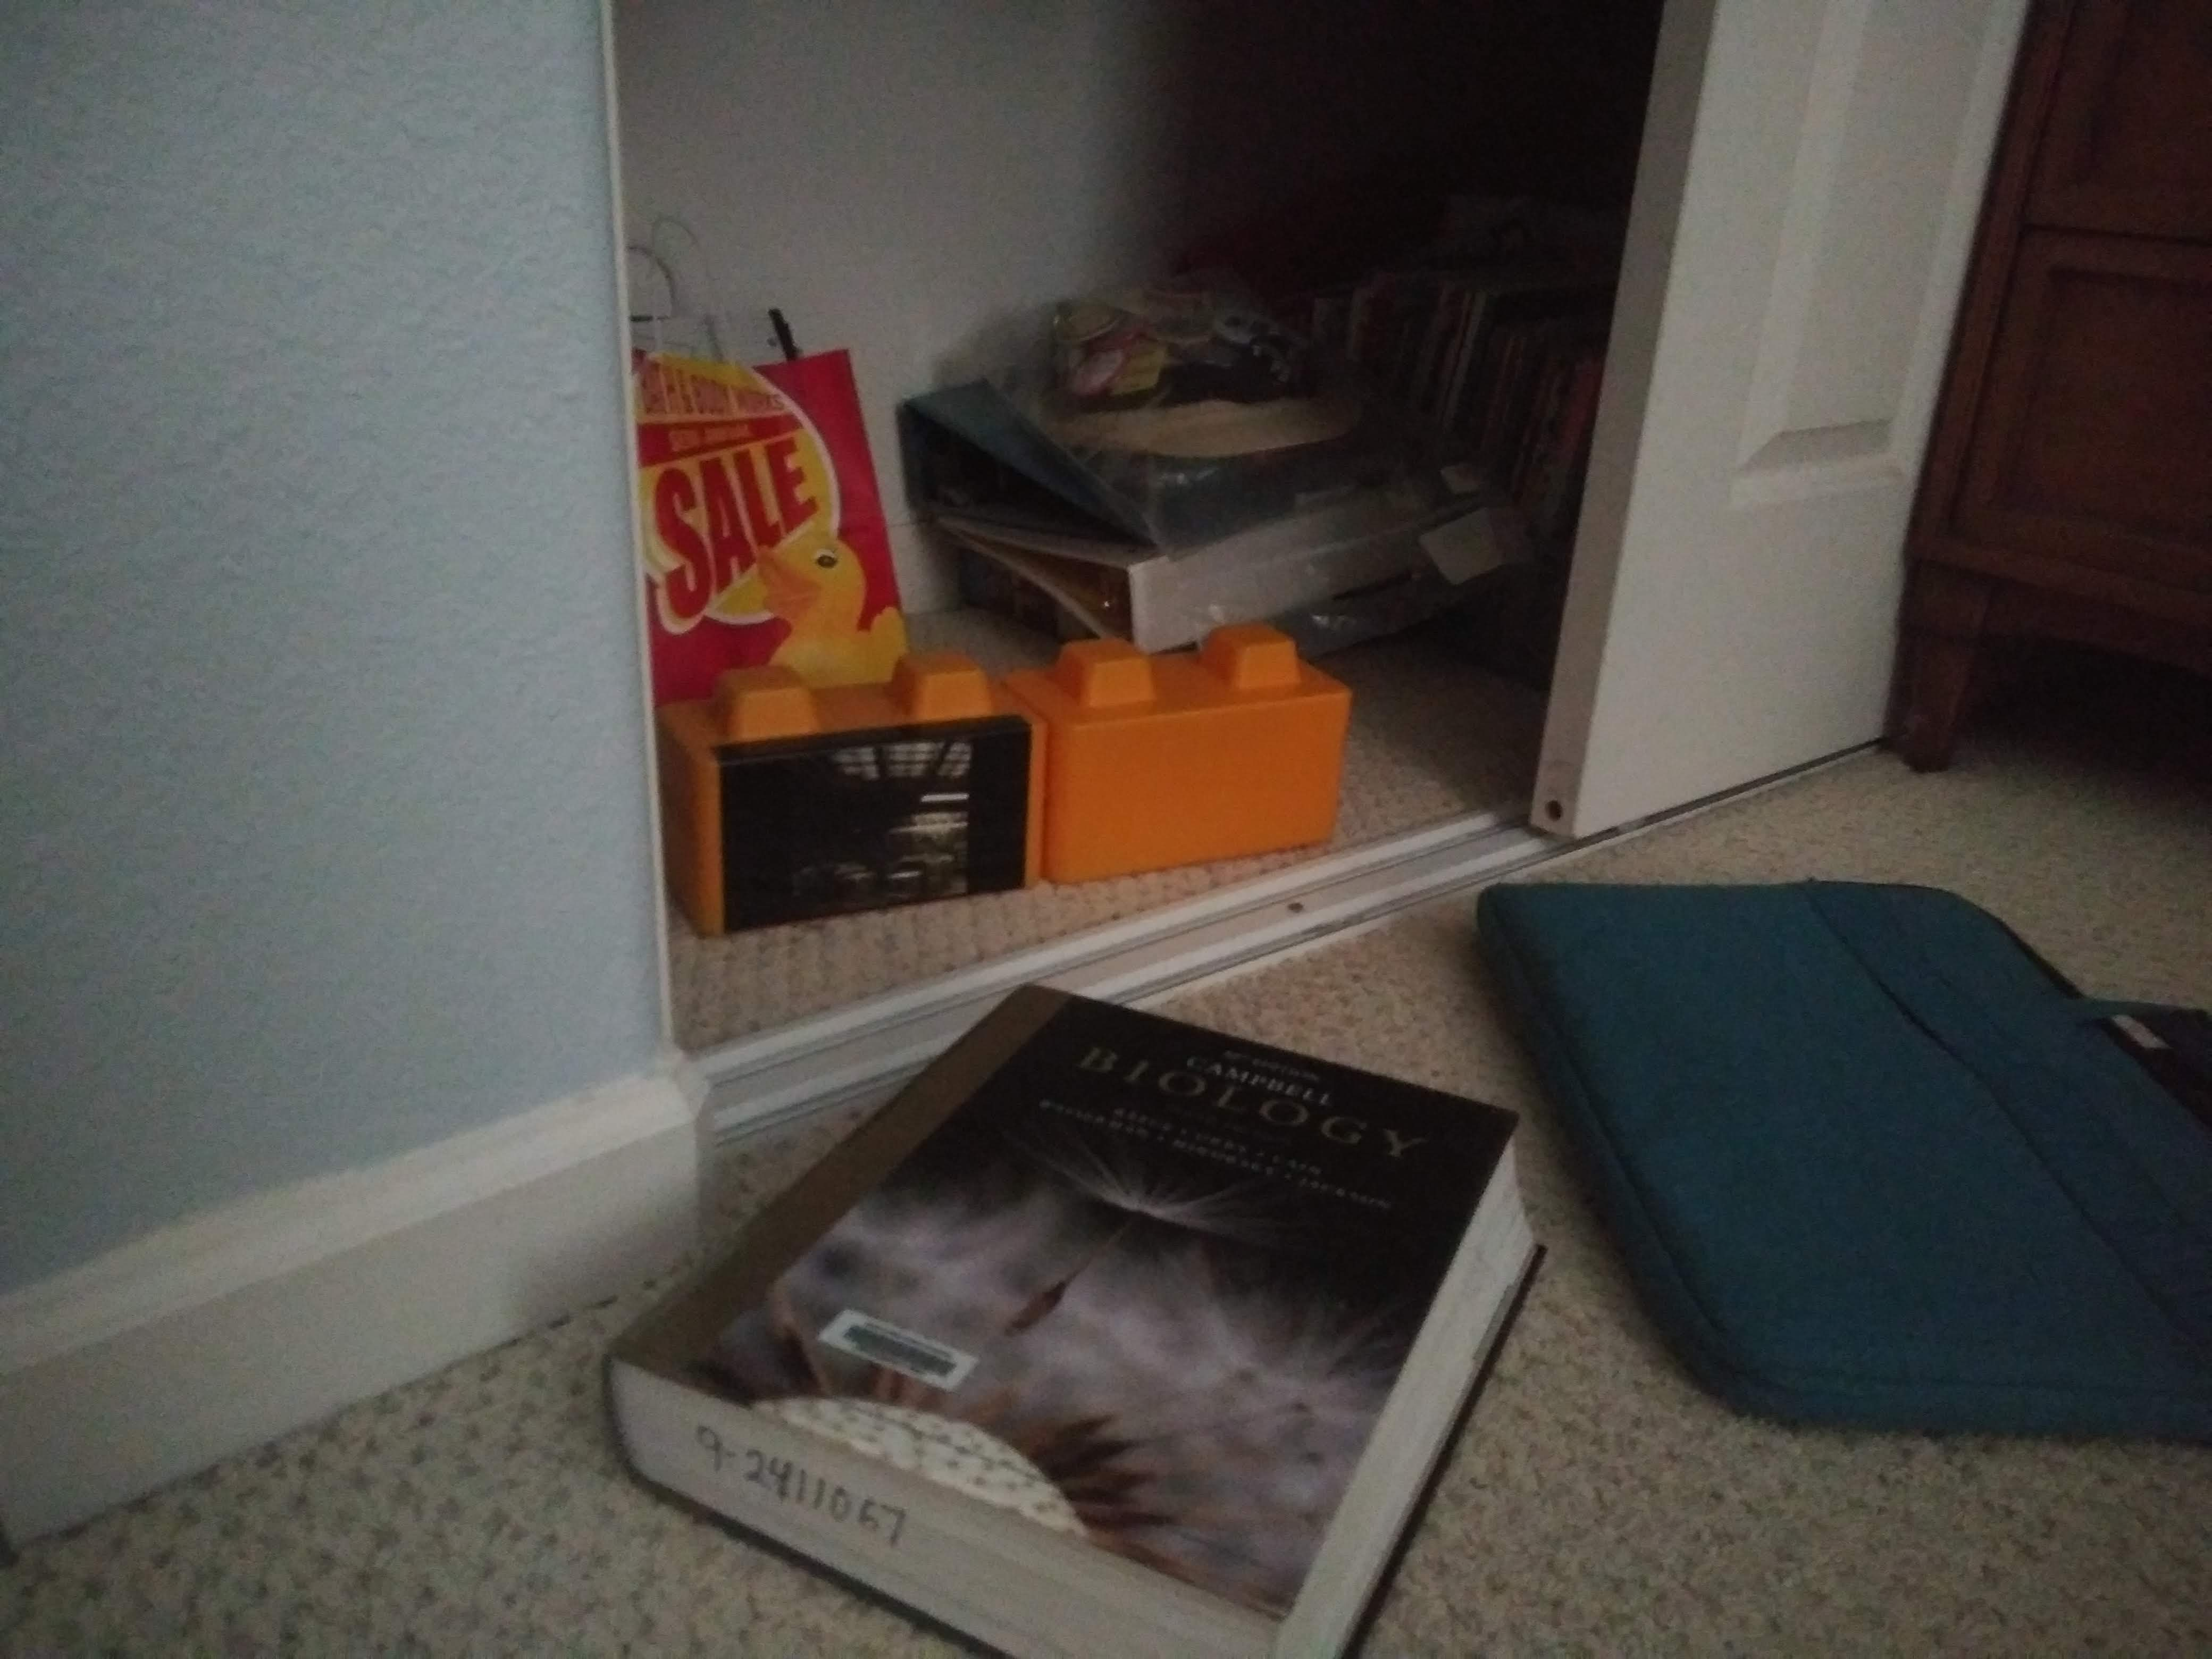skystone: (671, 702, 1036, 920)
stone: (1055, 669, 1350, 870)
